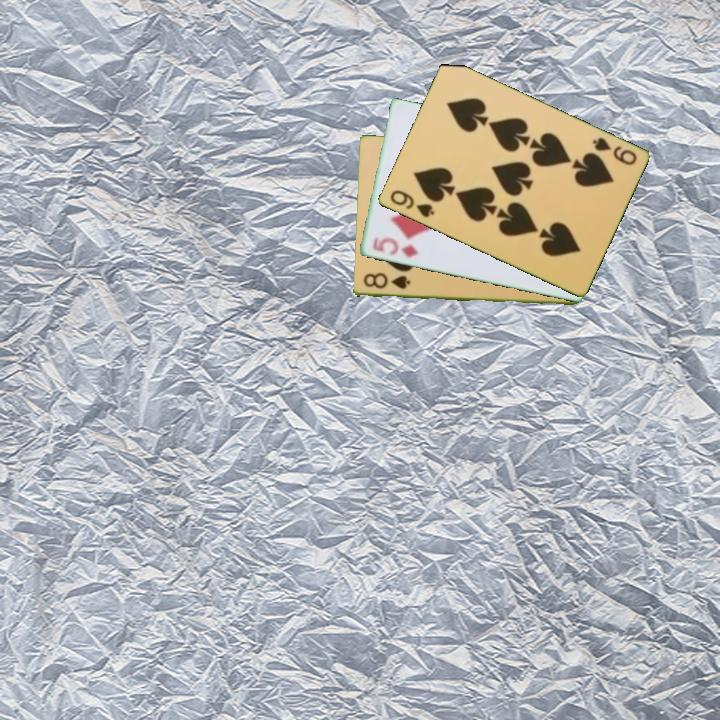5d: (369, 234, 422, 261)
8s: (359, 270, 413, 292)
9s: (588, 134, 640, 168), (386, 187, 437, 221)
